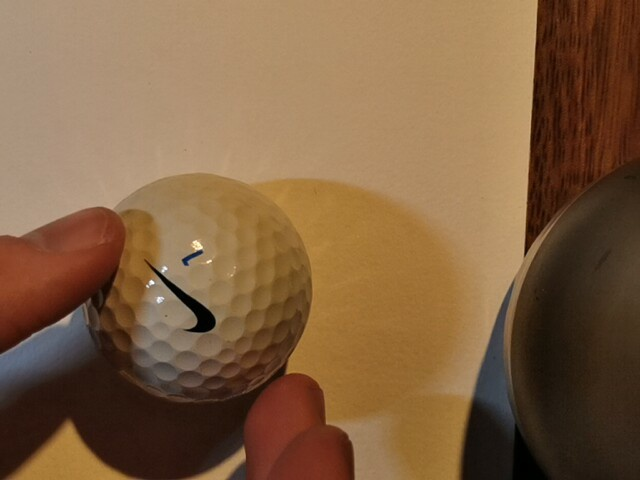Ball: (83, 171, 313, 404)
Nike: (144, 258, 217, 333)
